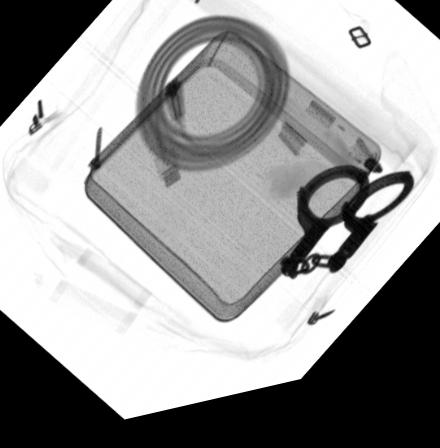Bullet: (363, 176, 381, 189)
HandCuffs: (278, 181, 416, 296)
